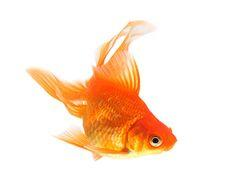goldfish: (42, 55, 185, 161)
